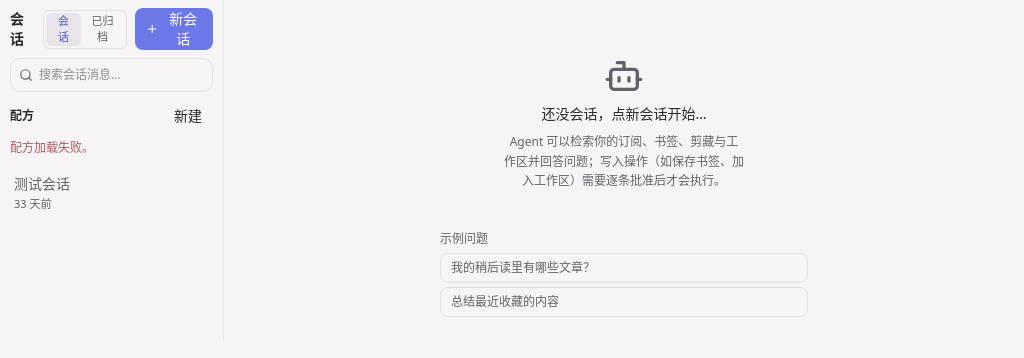
Scenario: AgentWorkbenchPage › 会话列表渲染；发送 → POST 消息 → 轮询直到 assistant 回复渲染
Click the button "测试会话 33 天前". click: (96, 193)
box: [6, 168, 185, 218]
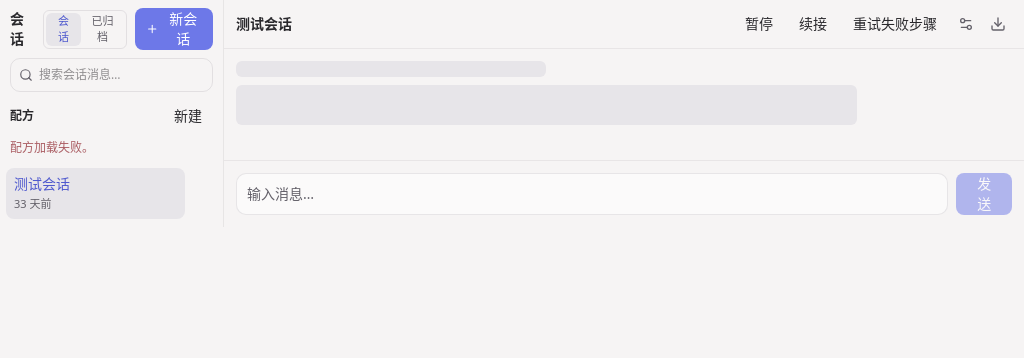
Type "你好" into the field labelled "输入消息". click: (592, 194)
box: [236, 172, 948, 214]
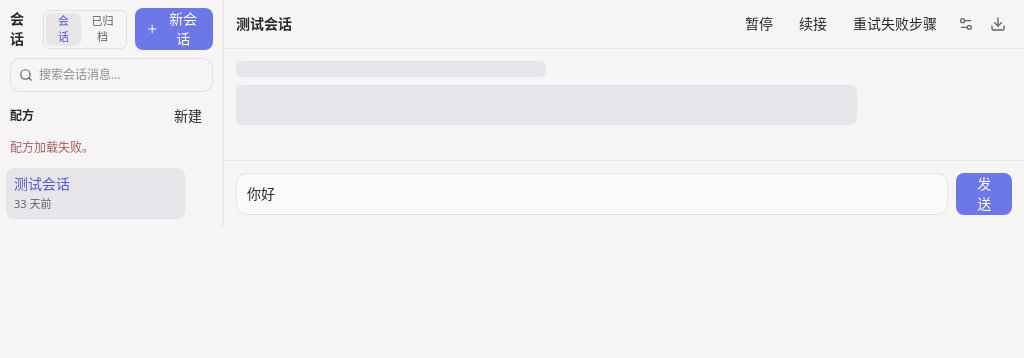
Click the button "发送". click: (984, 194)
box: [956, 172, 1012, 214]
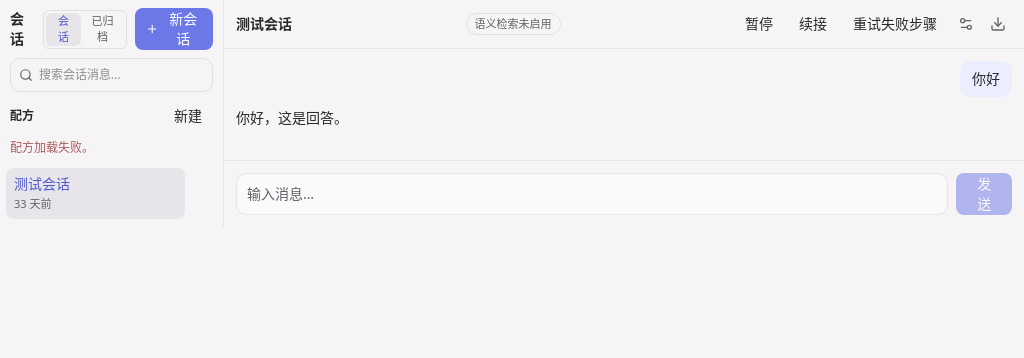
Check: the text "你好，这是回答。" is shown, box [236, 108, 348, 127]
Check: the text "你好" is shown, box [960, 61, 1012, 97]
